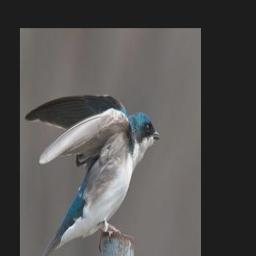Swallow: (24, 89, 162, 256)
